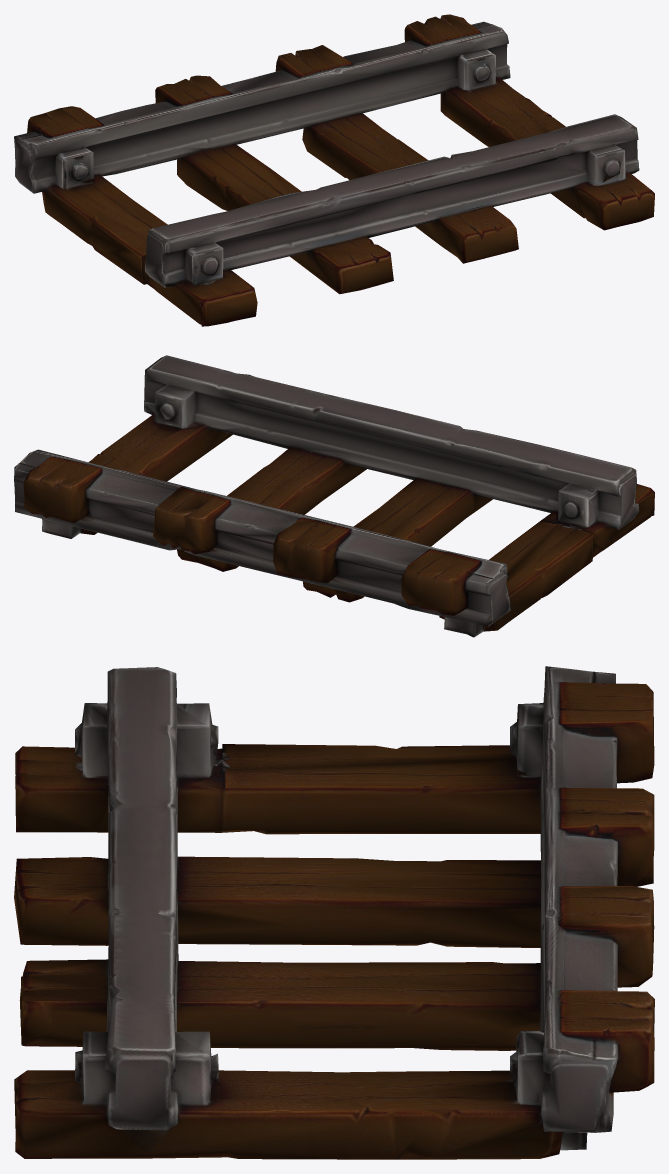
Rendered from via_ferrea.glb.
The picture shows the model from 3 angles, top to bottom: view 1: azimuth 30°, elevation 25°; view 2: azimuth 150°, elevation 25°; view 3: azimuth 270°, elevation 25°; orthographic projection. The views are drawn at different scales.
Visible parts, largest first — view 1: via_ferrea; view 2: via_ferrea; view 3: via_ferrea.
Part boxes in pixels (bbox=[...]): via_ferrea: bbox=[14, 14, 654, 326]; via_ferrea: bbox=[14, 355, 654, 637]; via_ferrea: bbox=[14, 666, 654, 1159].
Size of what is drawn, in the model's own units: 4.01 by 0.5937 by 2.77.
Materials: 1 (1 with a texture image).
